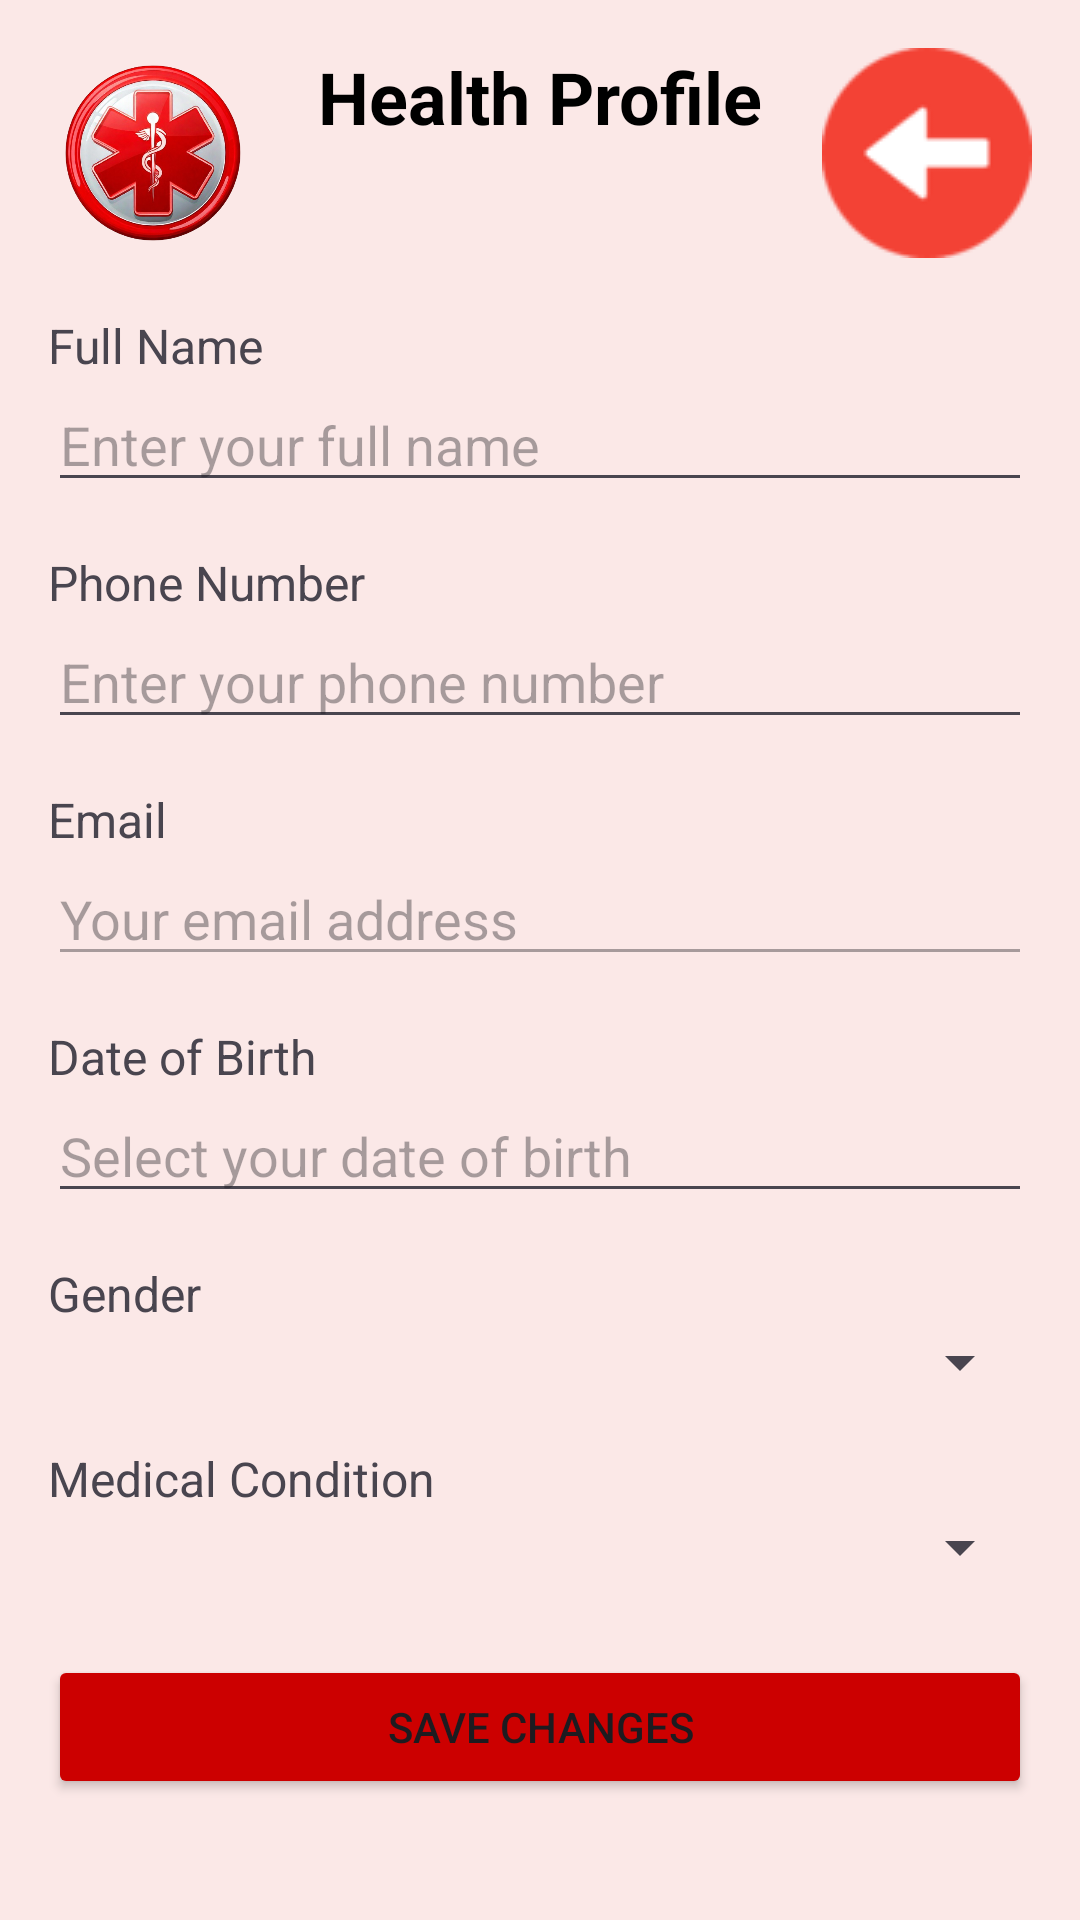

Where to tap for icons on this 1080*1920 app screen, as (x,y):
Back button: (927,153)
